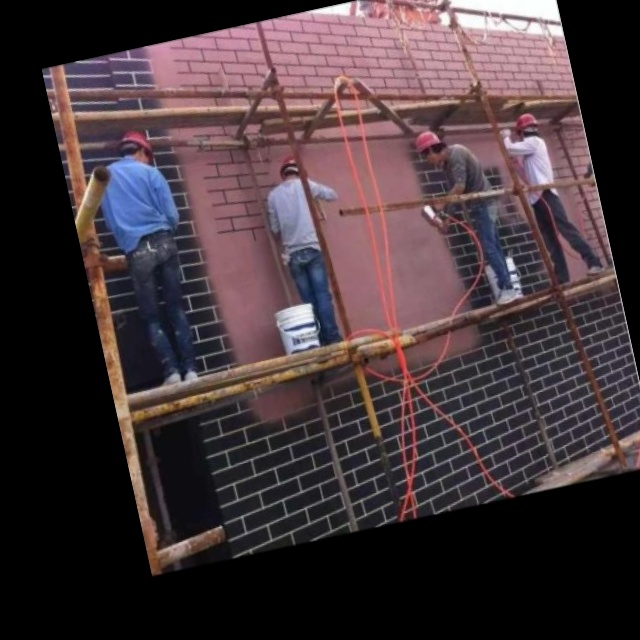Sin_Chaleco: (96, 153, 173, 256), (263, 174, 324, 251)
